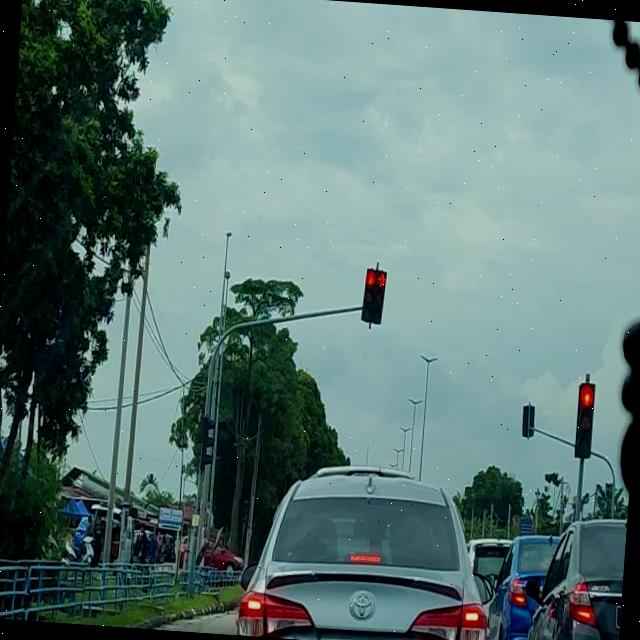red_light: (574, 381, 594, 458), (360, 266, 377, 322), (372, 268, 387, 324)
